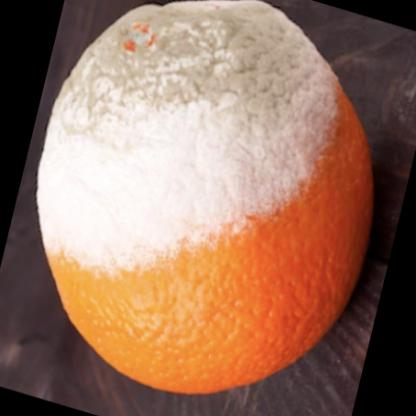rotten: (36, 1, 373, 397)
